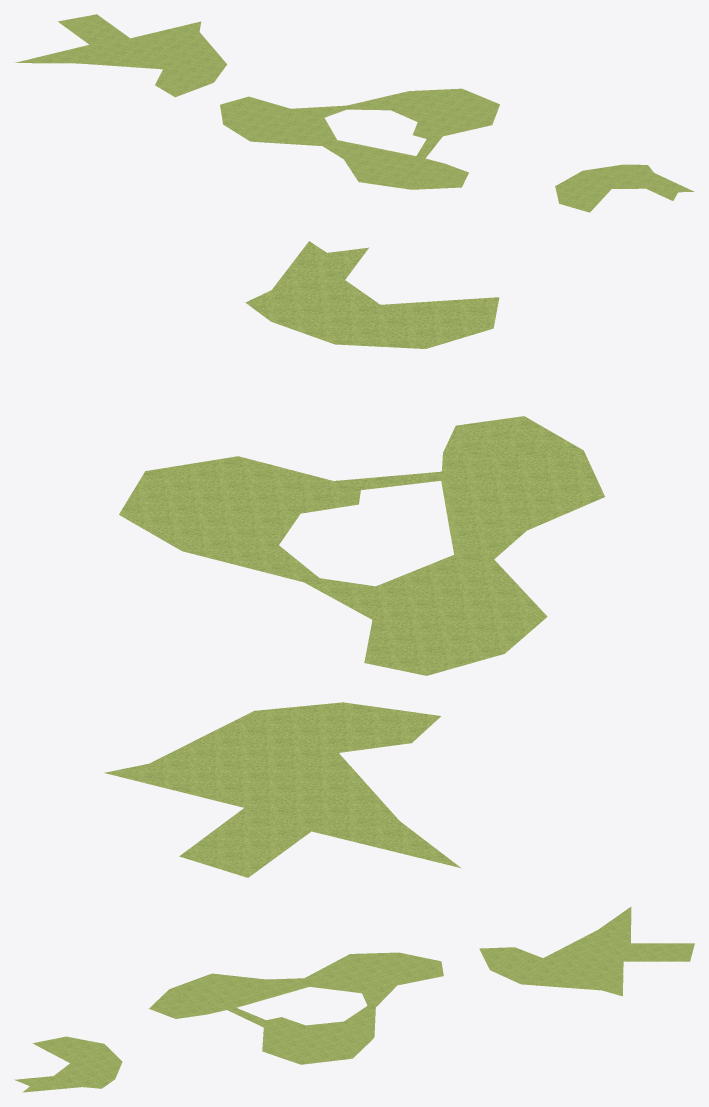
File: kd_stage_136599_10_15_bounded.glb
3 views of the same model, one above another, from view 1: azimuth 30°, elevation 25°; view 2: azimuth 150°, elevation 25°; view 3: azimuth 270°, elevation 25° (orthographic). The views are drawn at different scales.
Parts seen in each view (by area): view 1: kd_stage_136599_10_15_bounded; view 2: kd_stage_136599_10_15_bounded; view 3: kd_stage_136599_10_15_bounded.
Part boxes in pixels (left/top/right/bottom): kd_stage_136599_10_15_bounded: left=15, top=14, right=694, bottom=212; kd_stage_136599_10_15_bounded: left=104, top=241, right=604, bottom=877; kd_stage_136599_10_15_bounded: left=14, top=907, right=694, bottom=1092.
Size of the model in its own units: 37.34 by 1.72e-05 by 57.74.
Materials: 1 (1 with a texture image).
